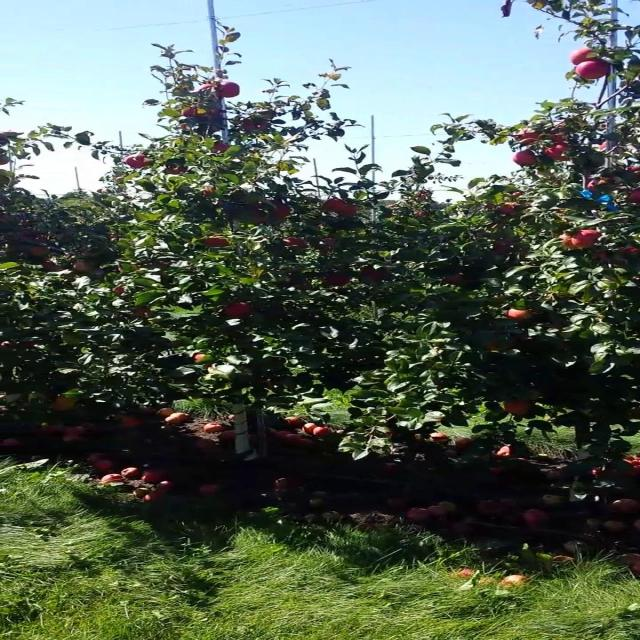apple: (575, 60, 612, 80), (568, 232, 604, 249), (575, 60, 612, 76), (49, 396, 80, 412), (504, 400, 533, 417), (547, 144, 572, 163), (504, 308, 535, 323), (575, 232, 604, 248), (568, 48, 596, 64), (227, 304, 254, 319), (220, 84, 242, 100), (518, 152, 540, 168), (241, 120, 270, 132), (518, 132, 542, 146), (319, 236, 340, 252), (362, 268, 389, 280), (269, 204, 292, 218), (326, 276, 352, 288), (625, 456, 639, 477), (127, 156, 151, 168), (205, 236, 229, 248), (42, 260, 66, 272), (589, 180, 613, 192), (490, 340, 514, 352), (369, 268, 391, 281), (561, 236, 581, 250), (340, 204, 363, 216), (547, 132, 569, 144), (326, 200, 347, 212), (554, 124, 569, 140), (589, 252, 612, 262), (625, 188, 639, 204), (625, 164, 639, 180), (198, 108, 220, 118), (284, 240, 308, 249), (170, 164, 188, 176), (596, 140, 613, 152), (362, 268, 382, 278), (504, 204, 521, 215), (134, 308, 151, 319), (255, 212, 270, 224), (447, 276, 468, 284), (77, 264, 98, 272), (212, 144, 231, 152), (497, 244, 512, 254), (618, 248, 638, 255), (35, 248, 50, 257), (113, 288, 128, 296), (184, 108, 197, 117), (191, 356, 206, 363), (205, 188, 217, 196), (205, 84, 217, 90), (84, 252, 98, 257), (184, 124, 192, 128)
